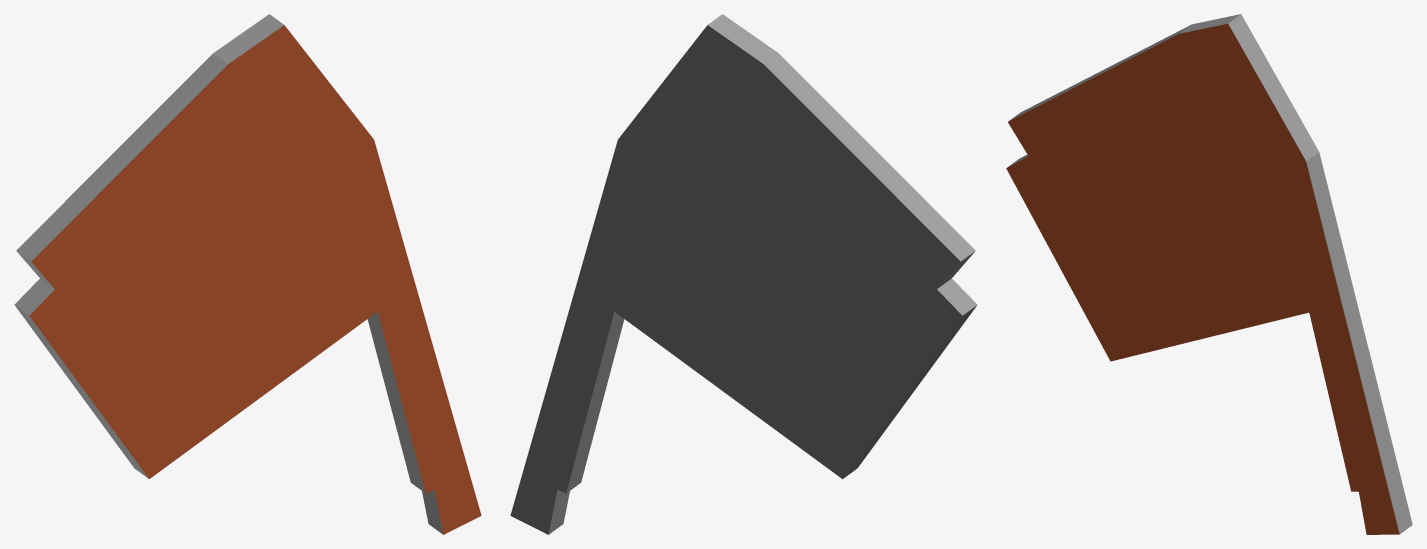
Rendered from construction_0106_assumed_A_Grande_construcao_h6m.obj.
The picture shows the model from 3 angles, left to right: view 1: azimuth 30°, elevation 25°; view 2: azimuth 150°, elevation 25°; view 3: azimuth 330°, elevation 25°; orthographic projection. The views are drawn at different scales.
Parts seen in each view (by area): view 1: construction_0106_assumed_A_Grande_construcao; view 2: construction_0106_assumed_A_Grande_construcao; view 3: construction_0106_assumed_A_Grande_construcao.
Part boxes in pixels (x1,y1,x2,y2): construction_0106_assumed_A_Grande_construcao: (14,14,481,534); construction_0106_assumed_A_Grande_construcao: (510,14,977,534); construction_0106_assumed_A_Grande_construcao: (1006,14,1412,534).
Size of the model in its own units: 104 by 121 by 6.
